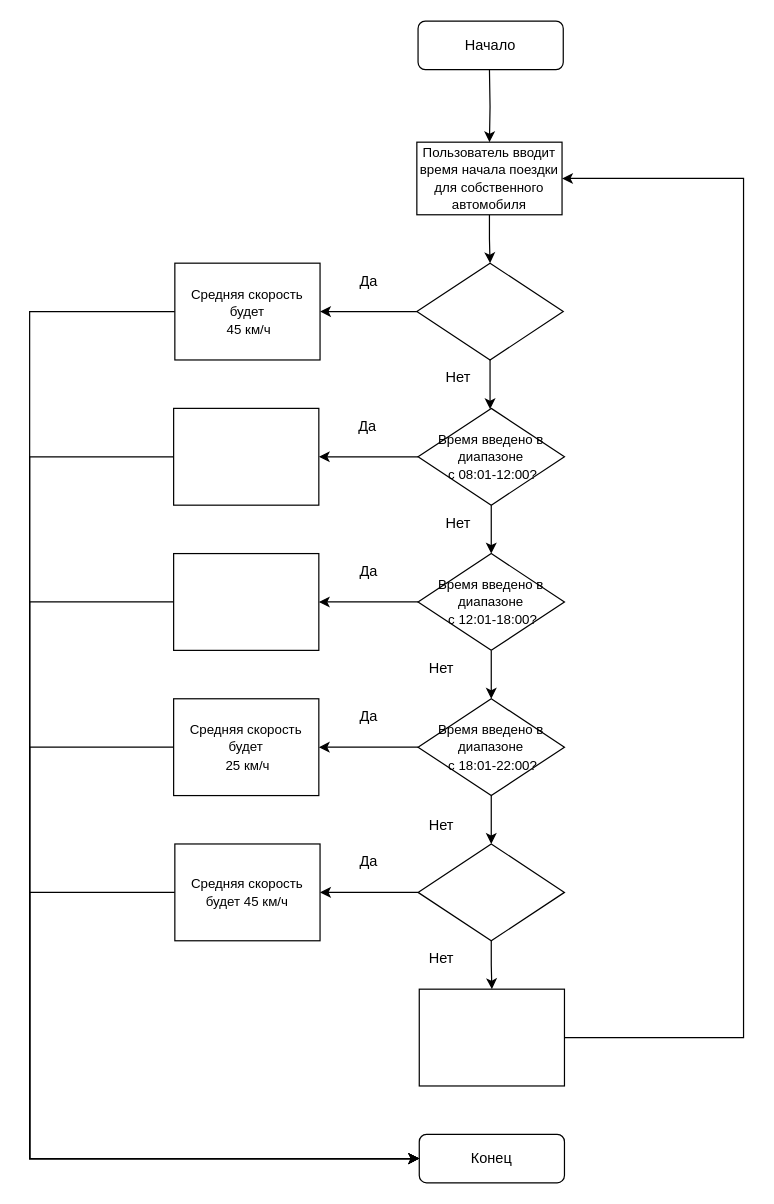
The diagram is 774 pixels wide and 1204 high, and some of its shapes have lost their labels. The box of each missing label's shape, as (x1, y1, x2, y2) in pixels:
Время введено в диапазоне с 00:01-08:00?: (416, 262, 563, 360)
Время введено в диапазоне с 22:01-00:00?: (417, 843, 564, 941)
Некорректный ввод, ошибка "Вы ввели некорректное время": (418, 988, 564, 1086)
Средняя скорость будет 30 км/ч: (172, 407, 319, 505)
Средняя скорость будет 40 км/ч: (172, 552, 319, 650)
